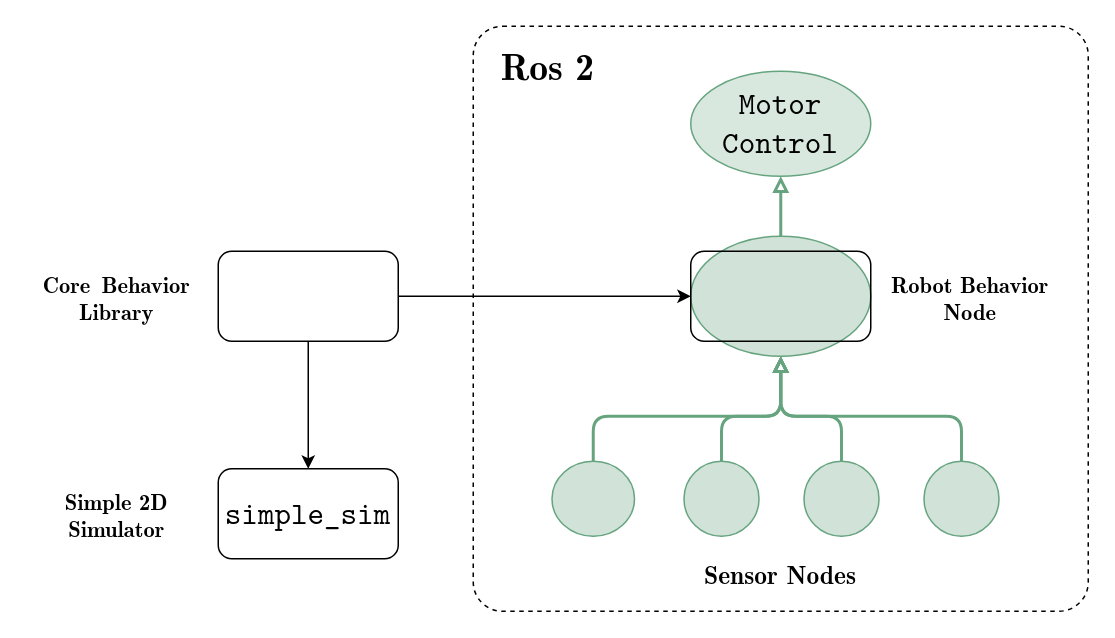
Some shapes in this 1115 by 638 pixel diagram are drawn without their labels. Here are the shapes that lost their labels. From the top down, the box of each, then its label:
(217, 250, 398, 341): botbrain
(689, 235, 871, 356): ros_agent
